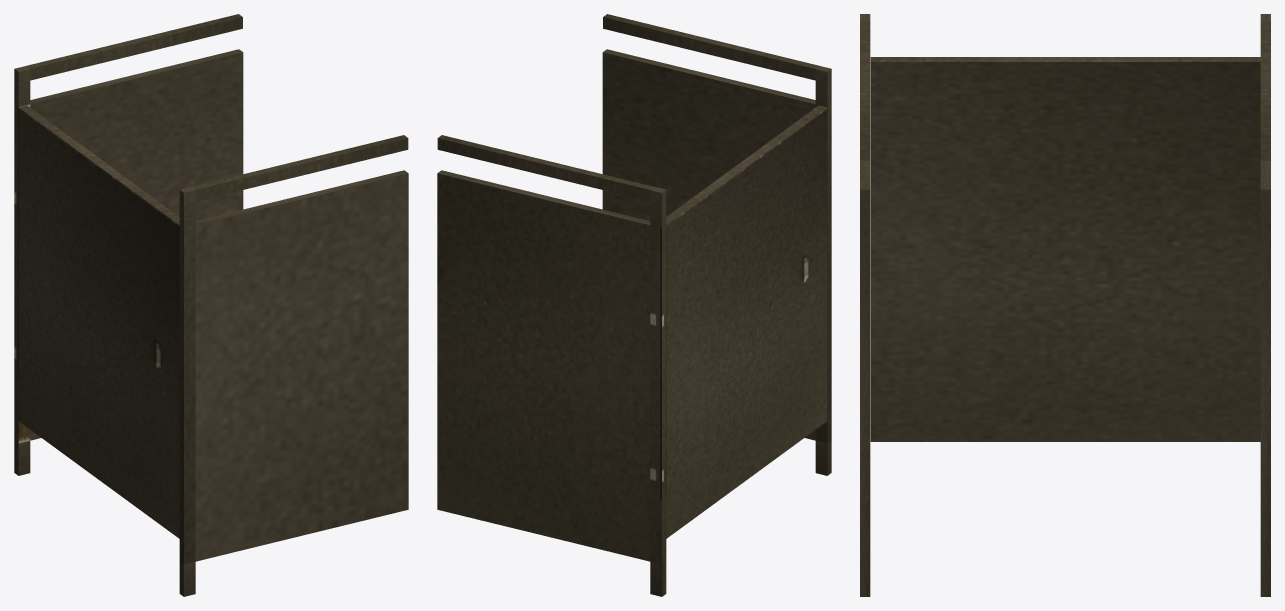
File: toilet_door.fbx
The picture shows the model from 3 angles, left to right: view 1: azimuth 30°, elevation 25°; view 2: azimuth 150°, elevation 25°; view 3: azimuth 270°, elevation 25°; orthographic projection. The views are drawn at different scales.
Parts seen in each view (by area): view 1: SAE_02; view 2: SAE_02; view 3: SAE_02.
Boxes of the visible parts, x1,y1,x2,y2 form: SAE_02: (14,14,408,596); SAE_02: (437,14,831,596); SAE_02: (860,14,1270,596).
Bounding box in the file's own units: 129 × 222 × 169.
